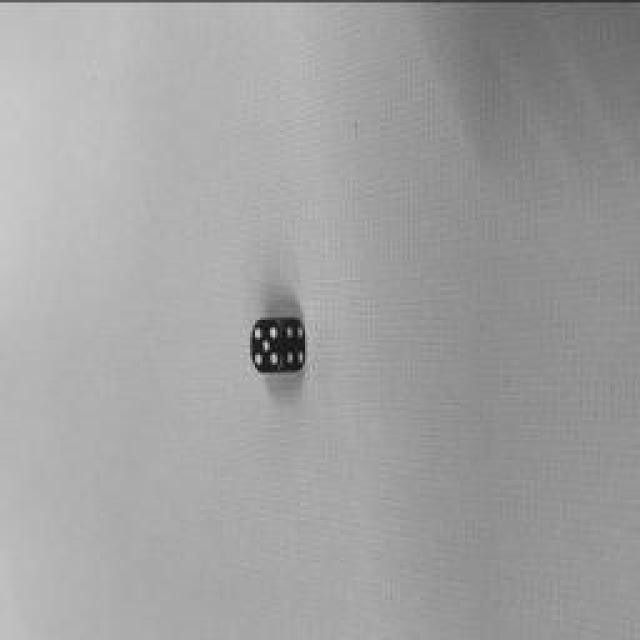dice_5: (251, 319, 284, 371)
